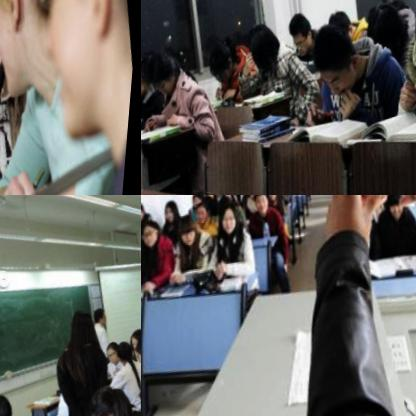head: (0, 0, 86, 103), (308, 19, 367, 95), (359, 0, 408, 58), (242, 18, 286, 70), (145, 45, 184, 94), (202, 40, 239, 86), (284, 9, 317, 57), (324, 4, 361, 46), (89, 385, 135, 416), (69, 307, 100, 348), (175, 212, 202, 246), (219, 202, 245, 236), (383, 195, 410, 223), (141, 216, 165, 246), (104, 337, 124, 367), (116, 336, 136, 362), (161, 195, 180, 220), (251, 195, 274, 214), (194, 200, 211, 222), (128, 327, 141, 349), (94, 305, 109, 324), (222, 195, 237, 206), (135, 335, 141, 361), (141, 199, 148, 221), (190, 195, 206, 204), (264, 195, 281, 202), (247, 195, 261, 200)
